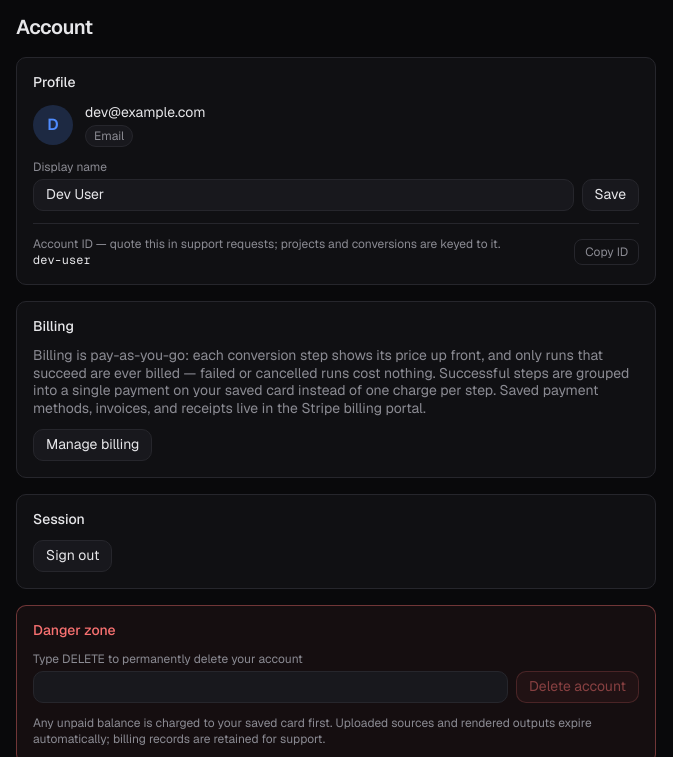
Test: AccountScreen delete (mock mode) › refuses while a charge is unpaid and says how much
The width and height of the screenshot is (673, 757).
Type "DELETE" into the field labelled "Type DELETE to permanently delete your account" at {"x": 270, "y": 687}, box x1=33 y1=671 x2=508 y2=702
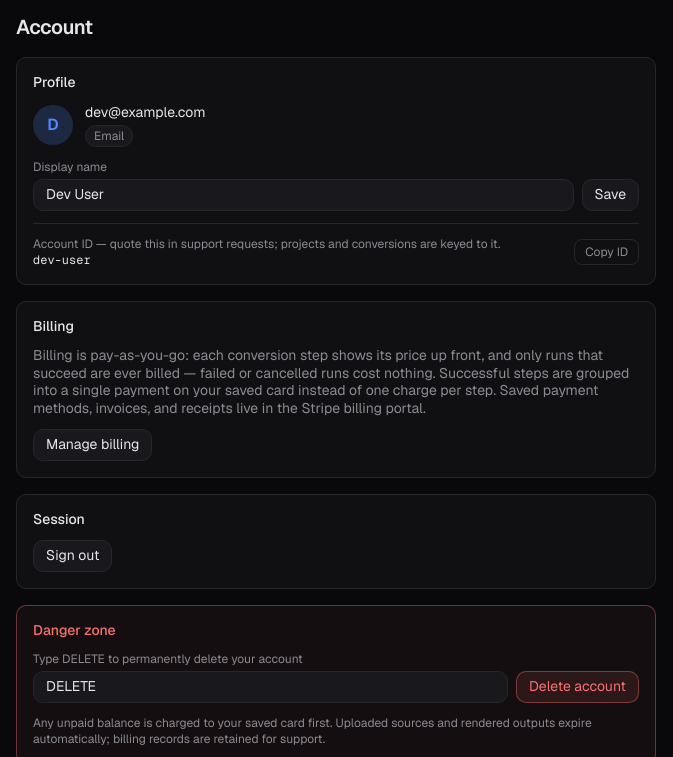
Click the button "Delete account" at {"x": 578, "y": 687}, box x1=516 y1=671 x2=639 y2=702
(page scrolled)
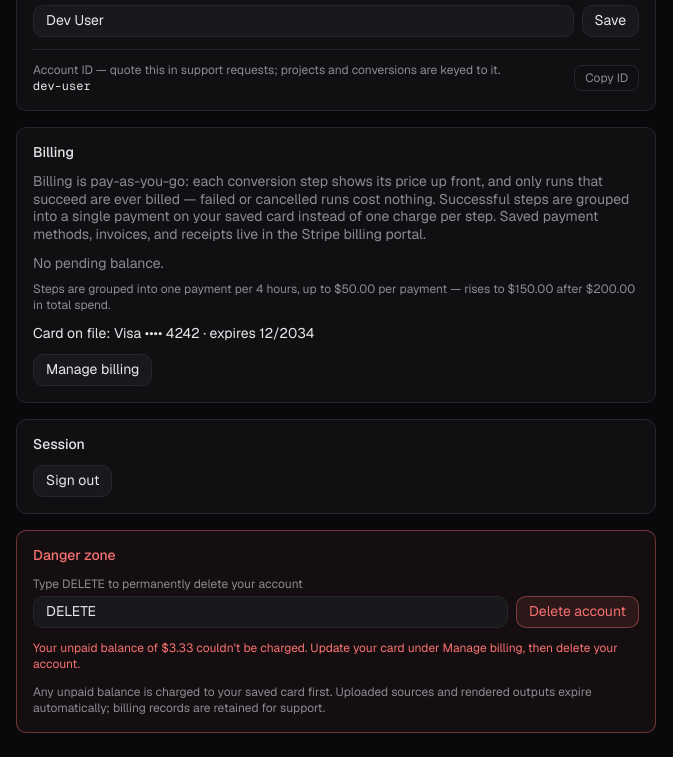
Result: the text "unpaid balance of $3.33" is shown at x1=33 y1=640 x2=618 y2=672
